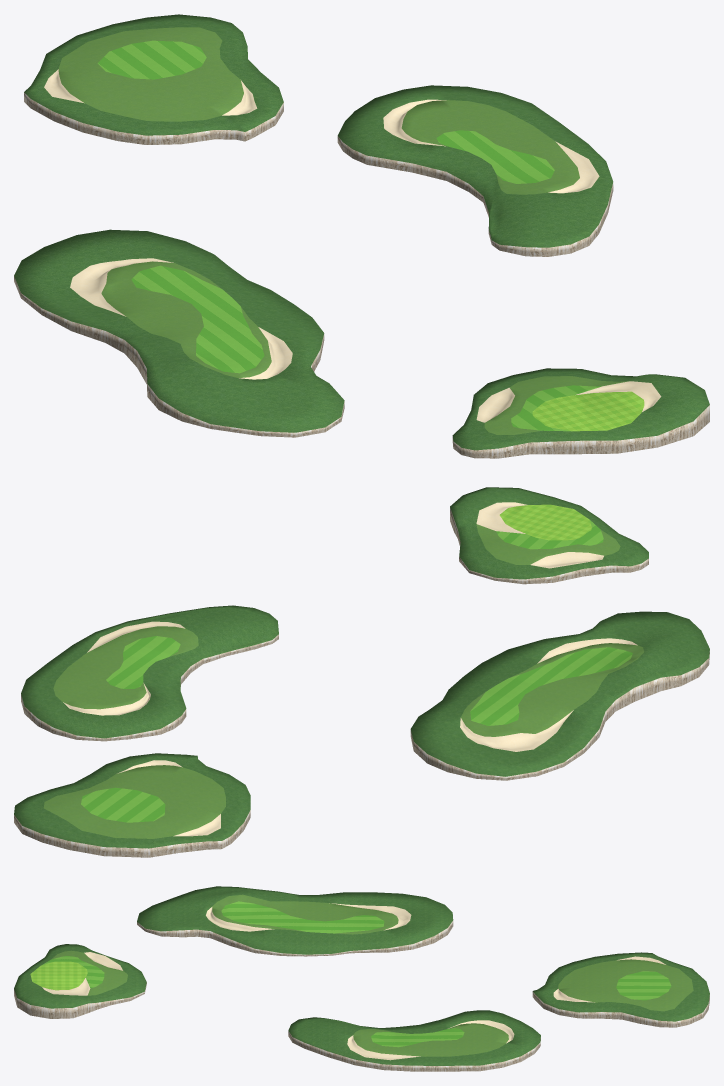
The model's file is Golf_course_final.glb.
3 views of the same model, one above another, from view 1: azimuth 30°, elevation 25°; view 2: azimuth 150°, elevation 25°; view 3: azimuth 270°, elevation 25° (orthographic). The views are drawn at different scales.
Visible parts, largest first — view 1: Plane; view 2: Plane; view 3: Plane.
Part boxes in pixels (x1,y1,x2,y2): Plane: [14, 14, 709, 458]; Plane: [14, 487, 709, 857]; Plane: [14, 886, 709, 1071].
Size of the model in its own units: 113 by 4.37 by 187.
Materials: 6 (6 with a texture image).
